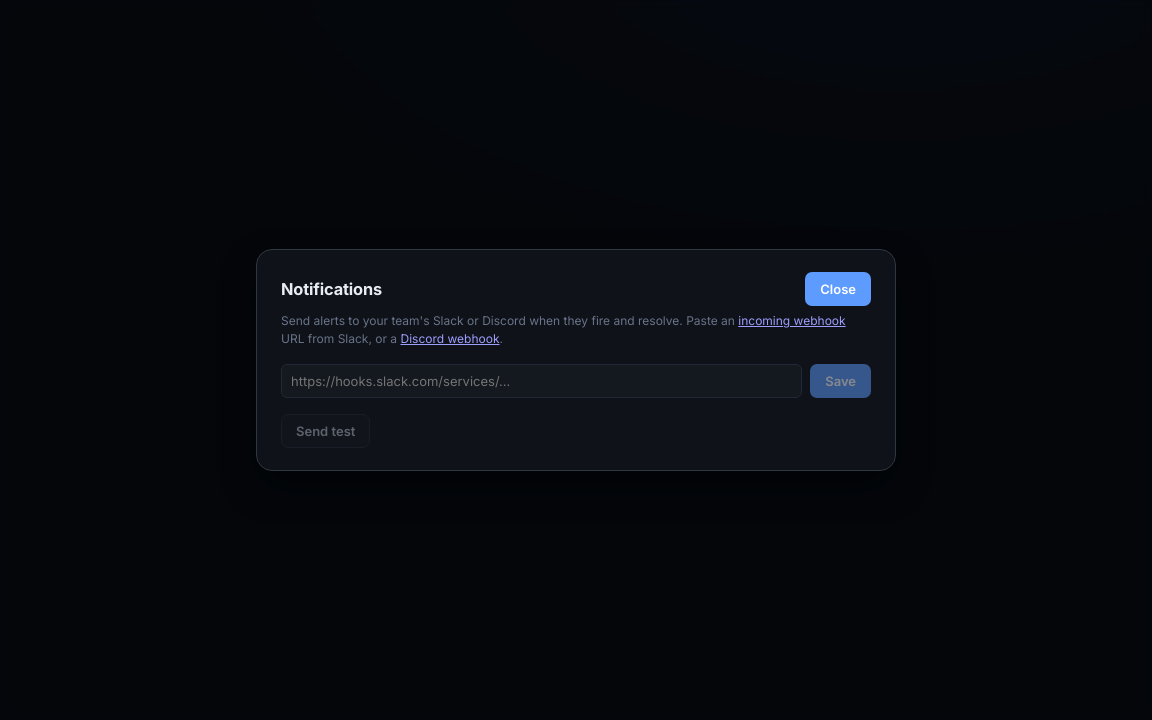
Test case: NotificationsPanel › shows an inline error when the URL is rejected
Type "https://evil.example.com/x" into the field named "webhook url".
click(542, 381); type("https://evil.example.com/x")  # box [281,364,802,398]
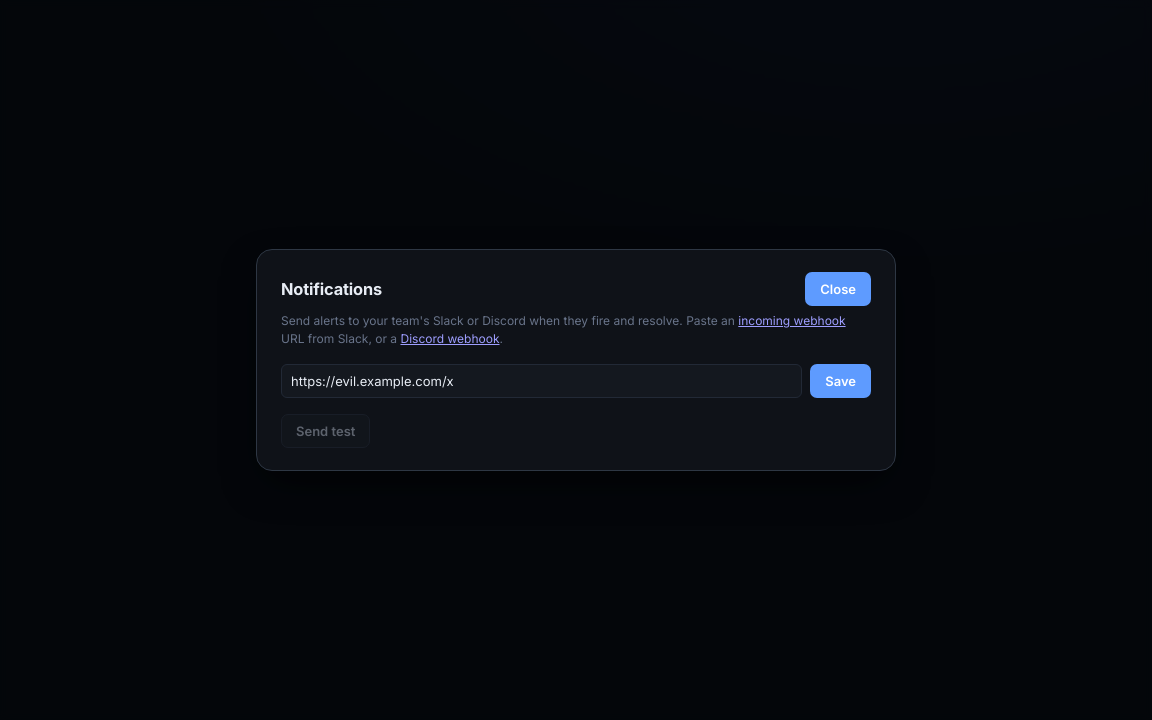
Click the button "Save".
click(841, 381)  # box [810,364,871,398]
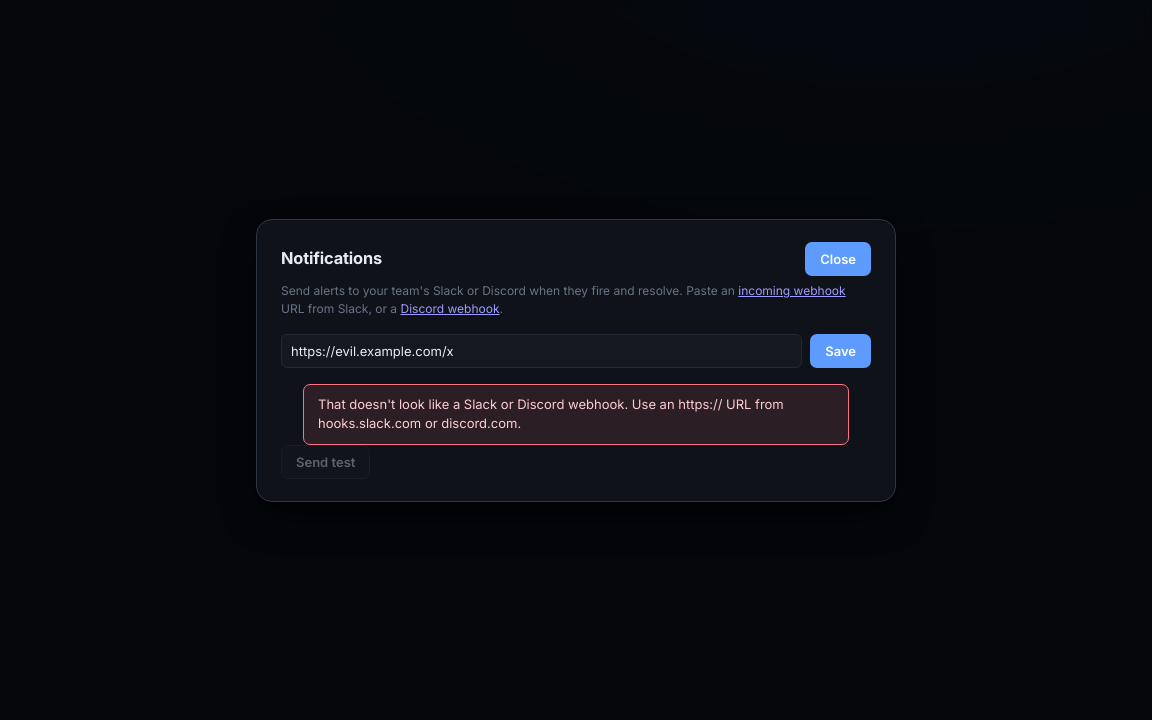
Check: the text "doesn't look like a Slack or Discord webhook" is shown, box [318,396,784,431]
